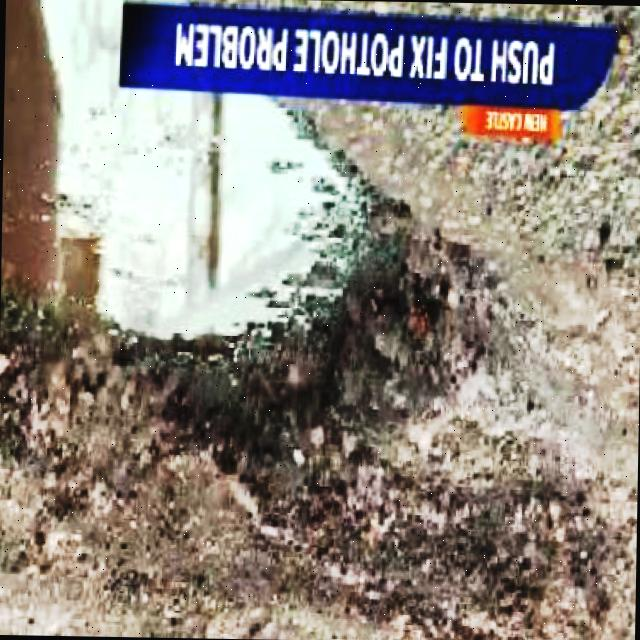pothole: (0, 0, 466, 459), (261, 361, 639, 640)
